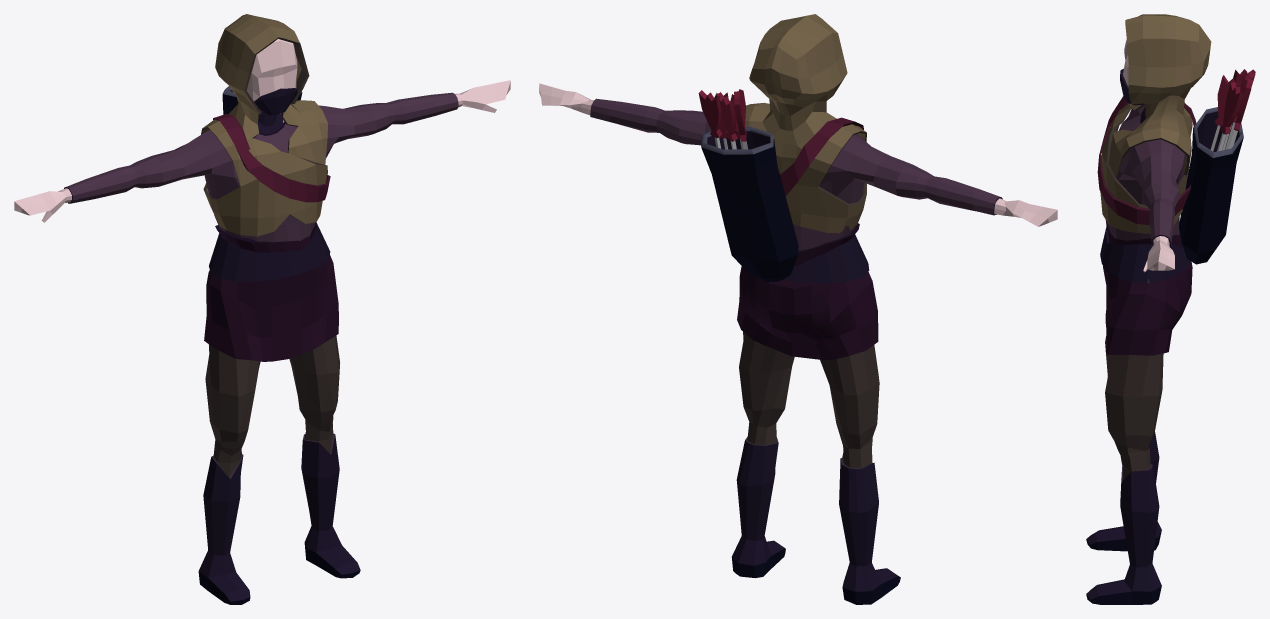
The model's file is archer.fbx.
3 views of the same model, side by side, from view 1: azimuth 30°, elevation 25°; view 2: azimuth 150°, elevation 25°; view 3: azimuth 270°, elevation 25° (orthographic). The views are drawn at different scales.
Visible parts, largest first — view 1: Hanfy; view 2: Hanfy; view 3: Hanfy.
Part boxes in pixels (x1,y1,x2,y2): Hanfy: (14,14,510,604); Hanfy: (539,14,1057,604); Hanfy: (1086,14,1255,604).
Bounding box in the file's own units: 2.14 × 2.25 × 0.6189.
